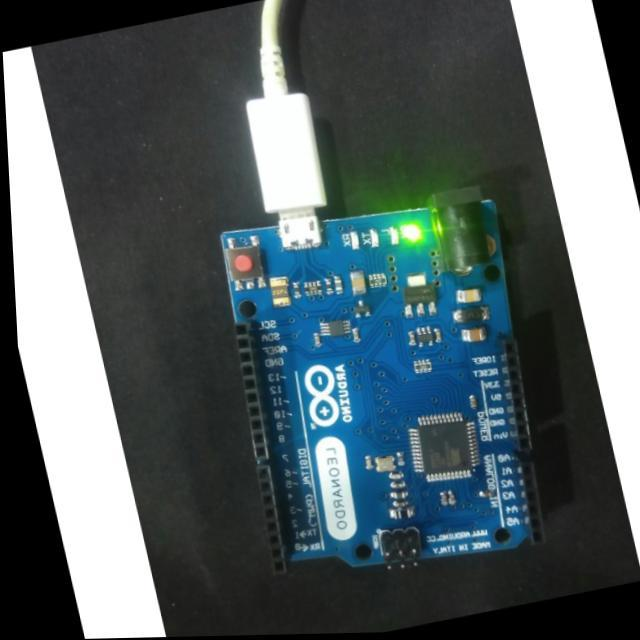Arduino-leonardo: (222, 200, 543, 570)
